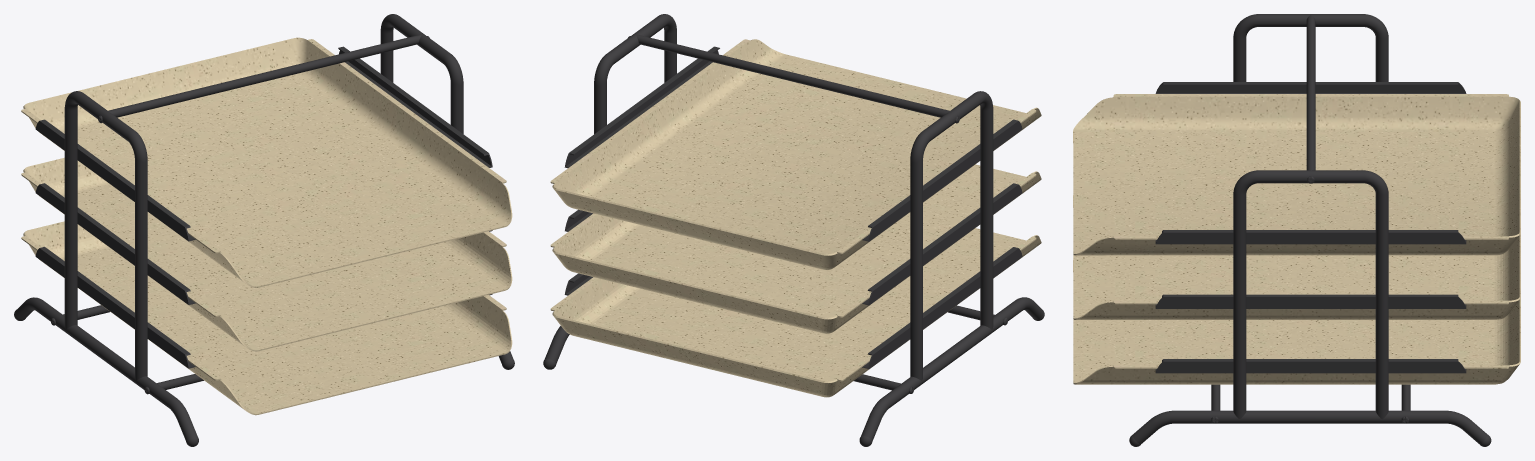
The model's file is intray.glb.
The picture shows the model from 3 angles, left to right: view 1: azimuth 30°, elevation 25°; view 2: azimuth 150°, elevation 25°; view 3: azimuth 270°, elevation 25°; orthographic projection.
Visible parts, largest first — view 1: intray; view 2: intray; view 3: intray.
Part boxes in pixels (left/top/right/bottom): intray: left=14, top=14, right=514, bottom=446; intray: left=543, top=14, right=1044, bottom=446; intray: left=1073, top=14, right=1520, bottom=446.
Size of the model in its own units: 0.2994 by 0.2347 by 0.3457.
Materials: 2 (1 with a texture image).
